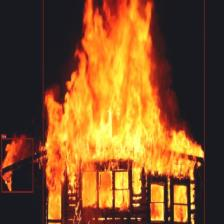fire: (43, 0, 204, 224), (1, 138, 33, 192)
